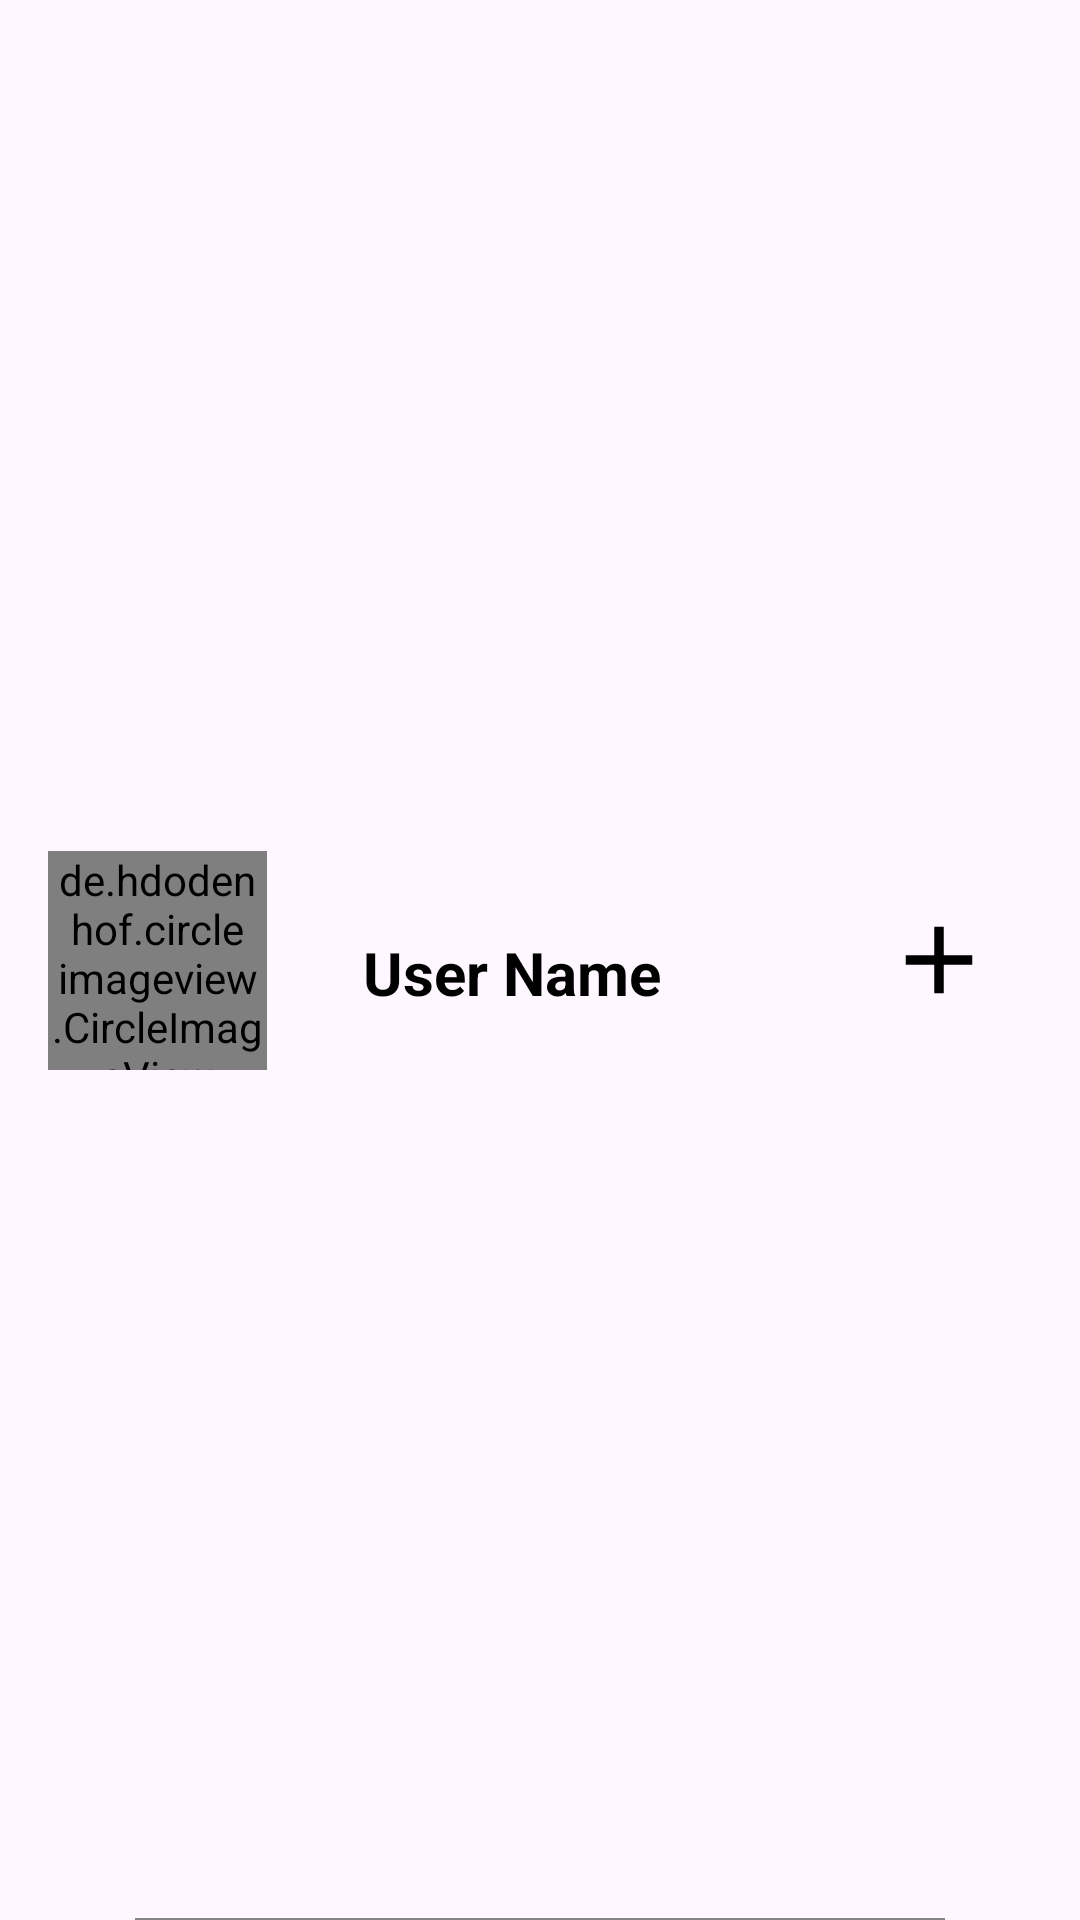

Icons on this 1080 x 1920 Android screen, each with the point to tap as point (x, y):
add: point (939, 960)
